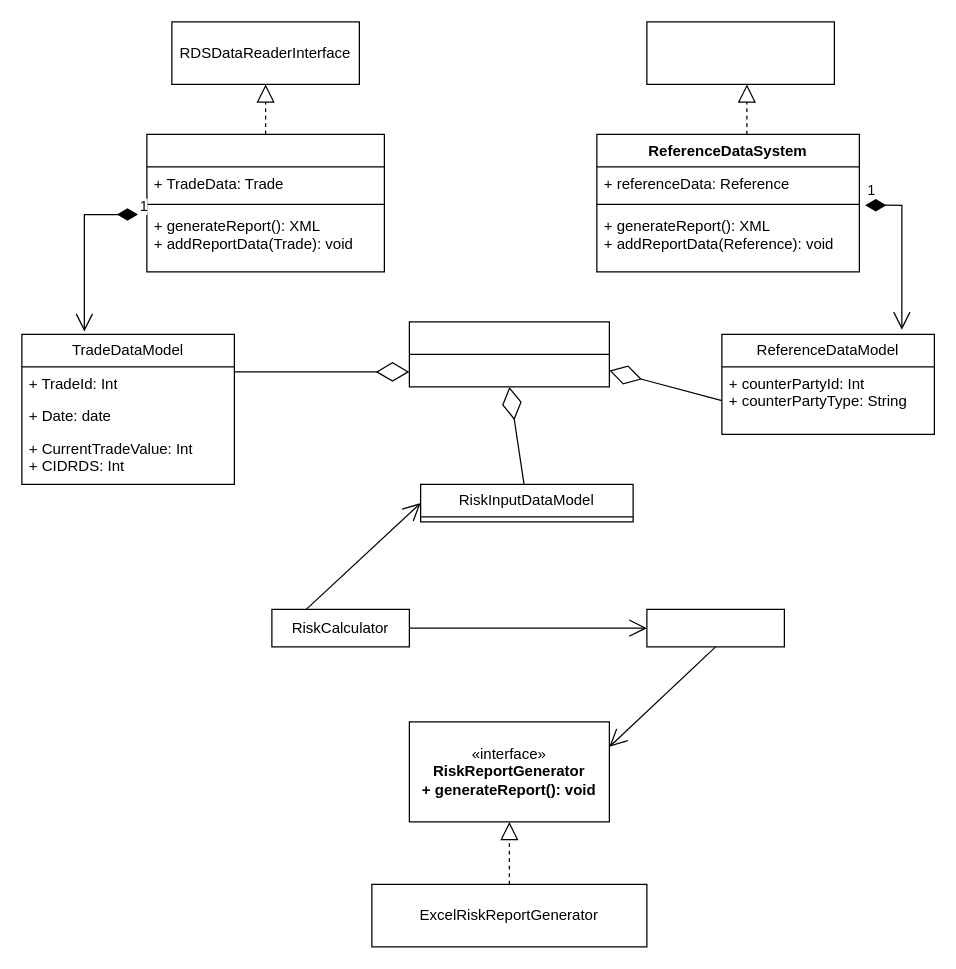
The diagram is 956 pixels wide and 969 high, and some of its shapes have lost their labels. Here are the shapes that lost their labels. From the top down, the box of each, then its label:
(646, 21, 834, 84): TDSDataReaderInterface
(146, 133, 384, 272): TradeDataSystem
(408, 321, 609, 387): RDSTDSDataMerger
(646, 608, 784, 647): RiskResult
